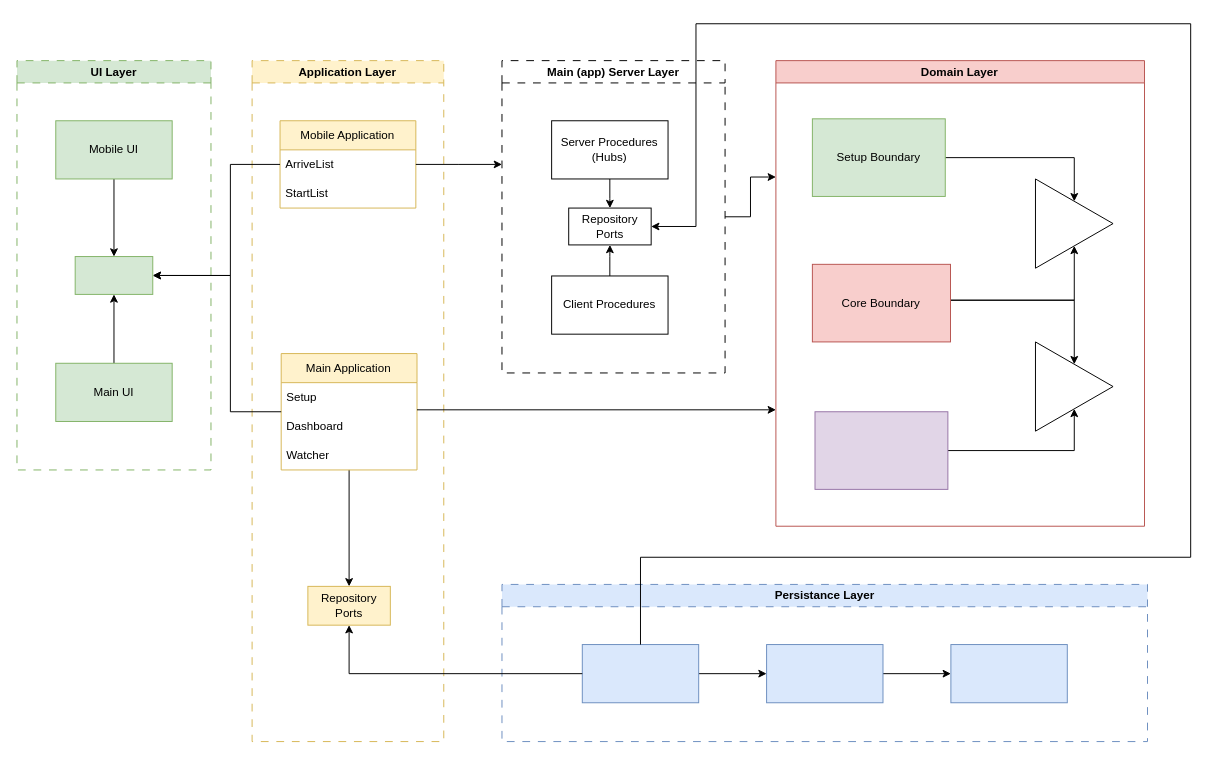
Image size: 1229x759. Some labels were removed from this diagram. Here are the shapes that lost their labels. From the top down, the centre of each, then its label:
At (1074,223): "Start/Update".
At (113,275): "Behind Ports".
At (1074,386): "CoreEvent".
At (881,450): "Watcher Boundary".
At (640,673): "Repository Adapters".
At (824,673): "Store".
At (1008,673): "Filesystem".
